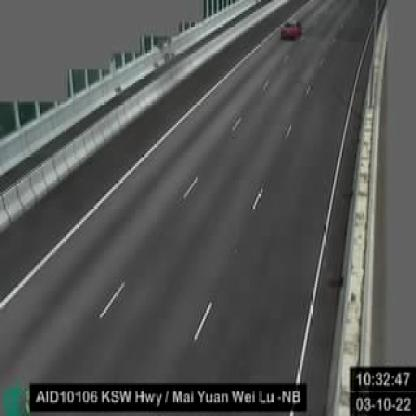Car: (278, 21, 299, 40)
